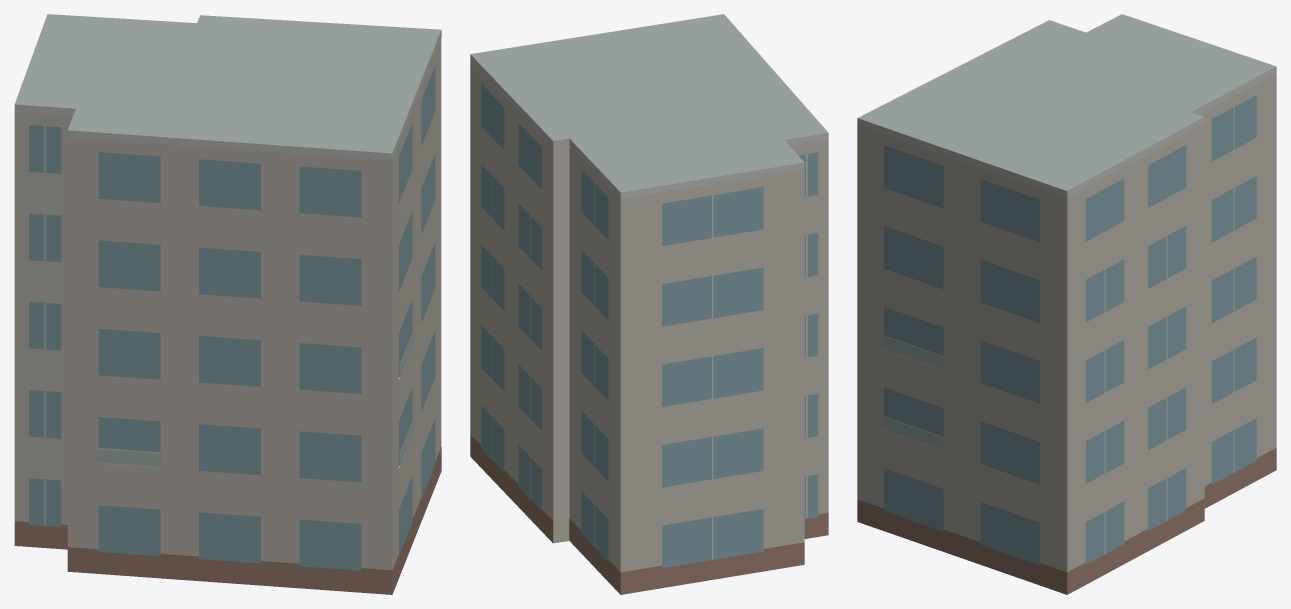
The model's file is survey-upis-32669916.glb.
3 renders of one model, left to right at view 1: azimuth 30°, elevation 25°; view 2: azimuth 150°, elevation 25°; view 3: azimuth 270°, elevation 25°, orthographic. The views are drawn at different scales.
Visible parts, largest first — view 1: survey-upis-32669916.tmp; view 2: survey-upis-32669916.tmp; view 3: survey-upis-32669916.tmp.
Part boxes in pixels (x1,y1,x2,y2): survey-upis-32669916.tmp: (14, 14, 441, 594); survey-upis-32669916.tmp: (470, 14, 828, 594); survey-upis-32669916.tmp: (857, 14, 1276, 594).
Size of the model in its own units: 13.74 by 14.6 by 13.74.
